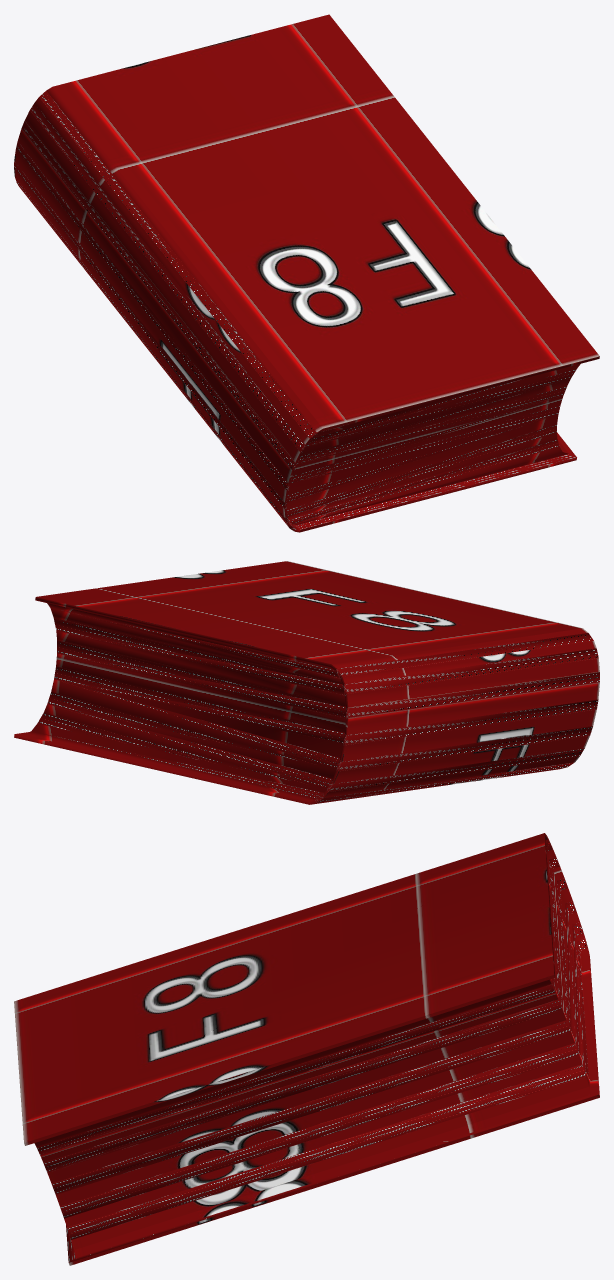
File: KnjigaEight.fbx
3 views of the same model, one above another, from view 1: azimuth 30°, elevation 25°; view 2: azimuth 150°, elevation 25°; view 3: azimuth 270°, elevation 25° (orthographic). The views are drawn at different scales.
Parts seen in each view (by area): view 1: book; view 2: book; view 3: book.
Boxes of the visible parts, <box> form: book: <box>14,14,599,532</box>; book: <box>14,561,599,804</box>; book: <box>14,833,599,1265</box>.
Size of the model in its own units: 10.86 by 8.97 by 16.71.
1 material, 1 textured.
